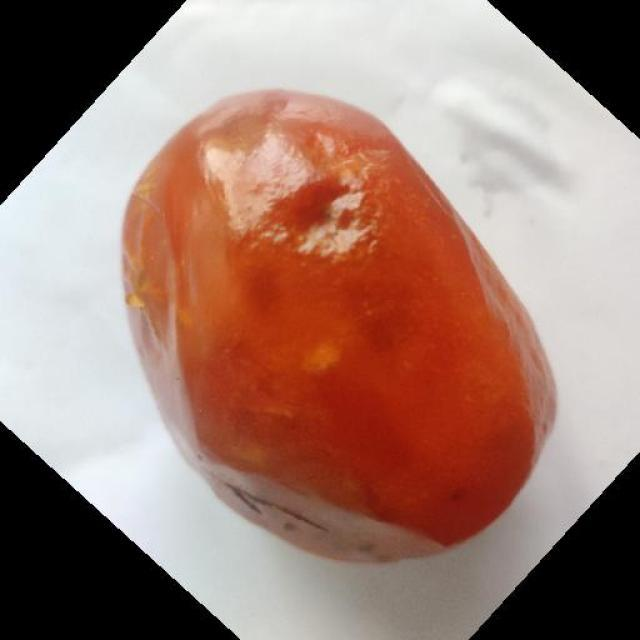Rotten Tomato: (98, 80, 570, 585)
